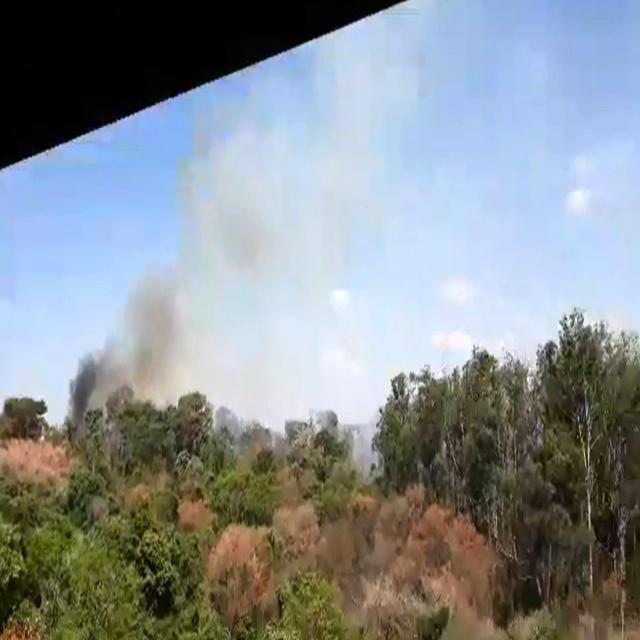Smoke: (149, 43, 333, 306), (62, 291, 190, 428)
